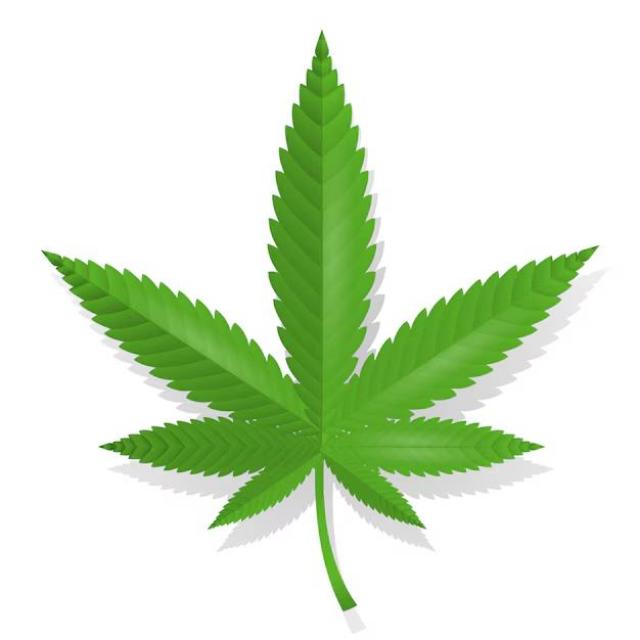cannabis: (42, 33, 597, 633)
